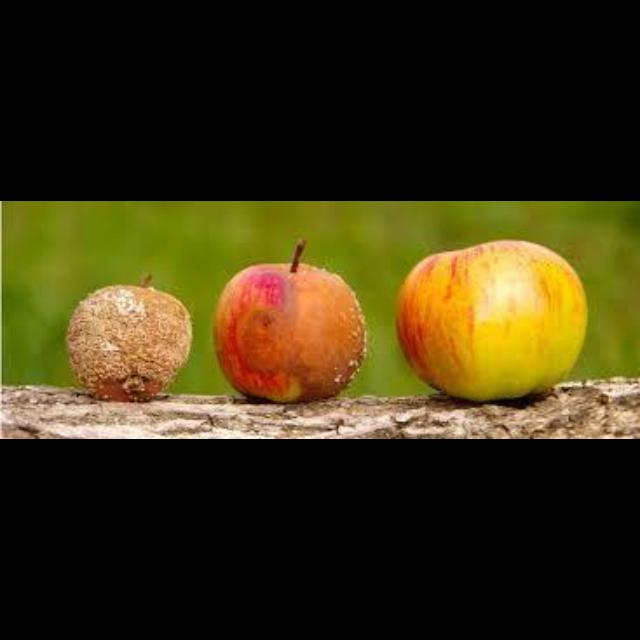apple: (396, 241, 586, 402), (213, 241, 364, 402), (66, 276, 190, 402)
rotten: (236, 273, 368, 398), (66, 276, 190, 402)
